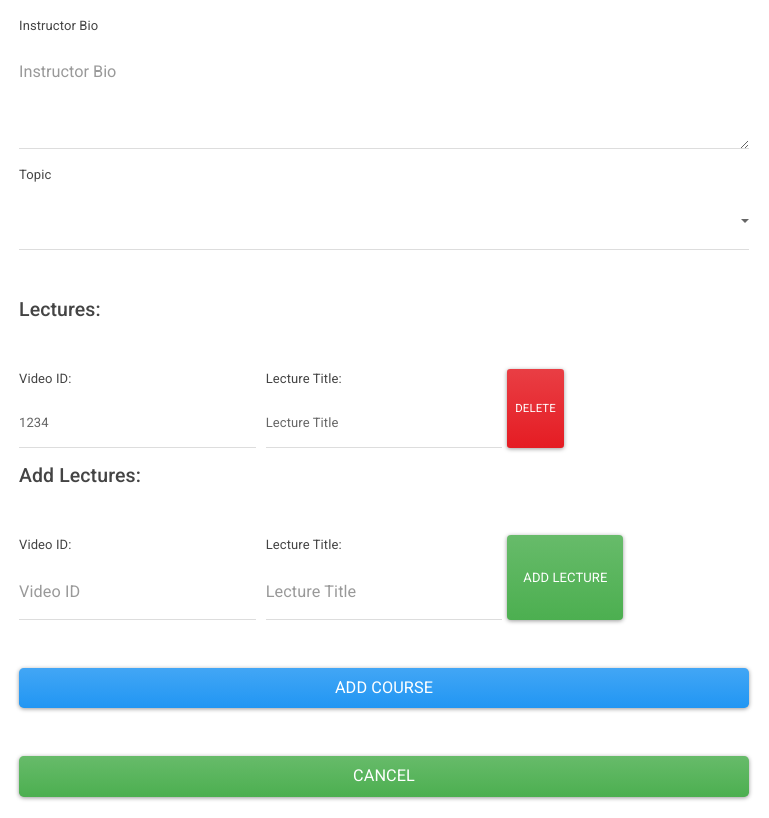
Test: Add.vue › deletes lecture
(page scrolled)
Click the button with id "deleteButton".
click(536, 409)  # box x1=507 y1=369 x2=564 y2=448
(page scrolled)
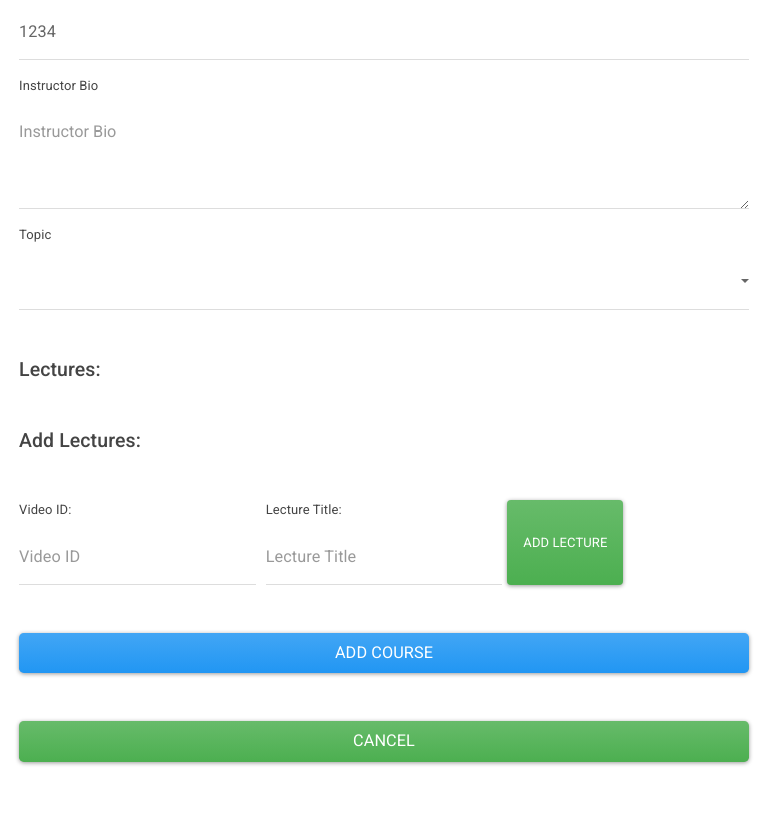
Result: the field with id "displayedVideoId" is gone
